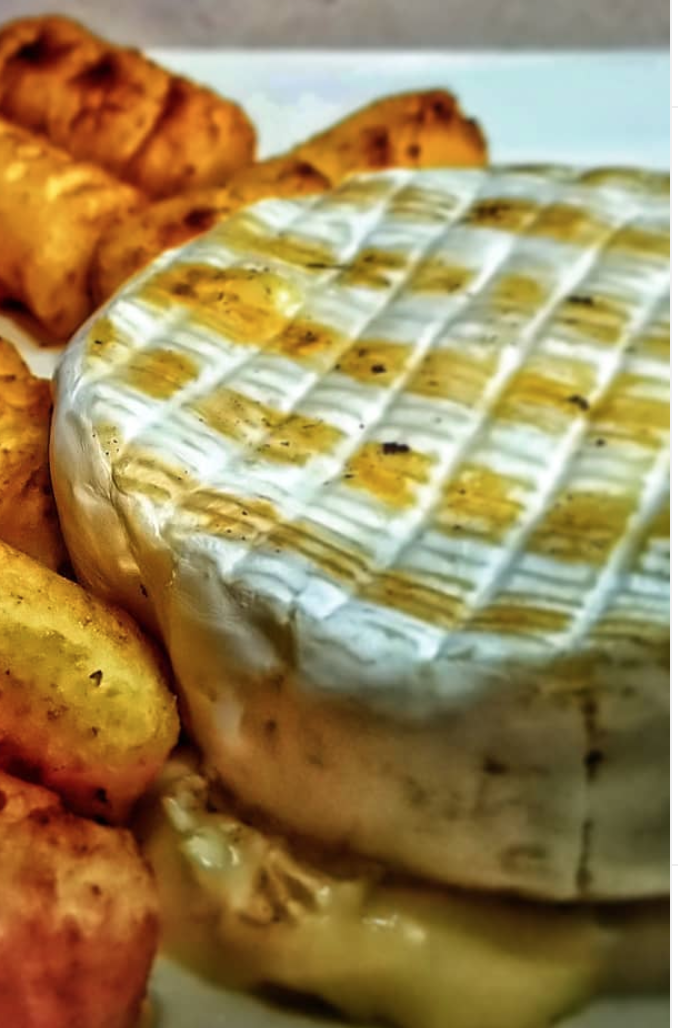camembert: (49, 159, 669, 900)
